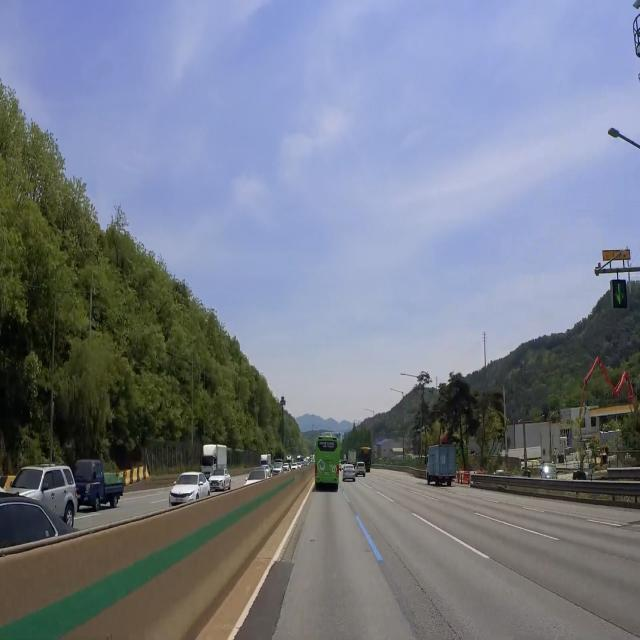car: (323, 468, 331, 483)
